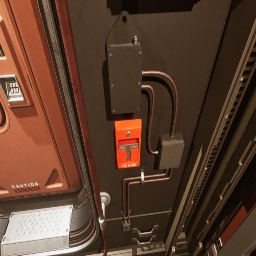FireAlarm ,: (114, 119, 142, 169)
